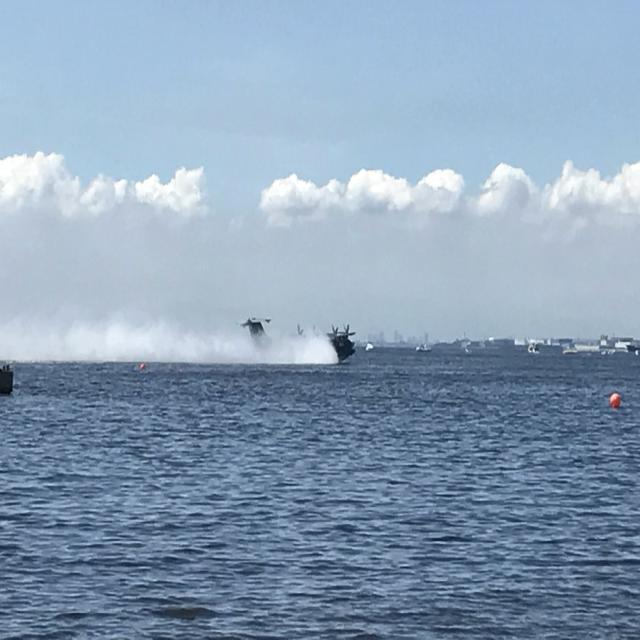MIL_Plane: (235, 316, 356, 363)
